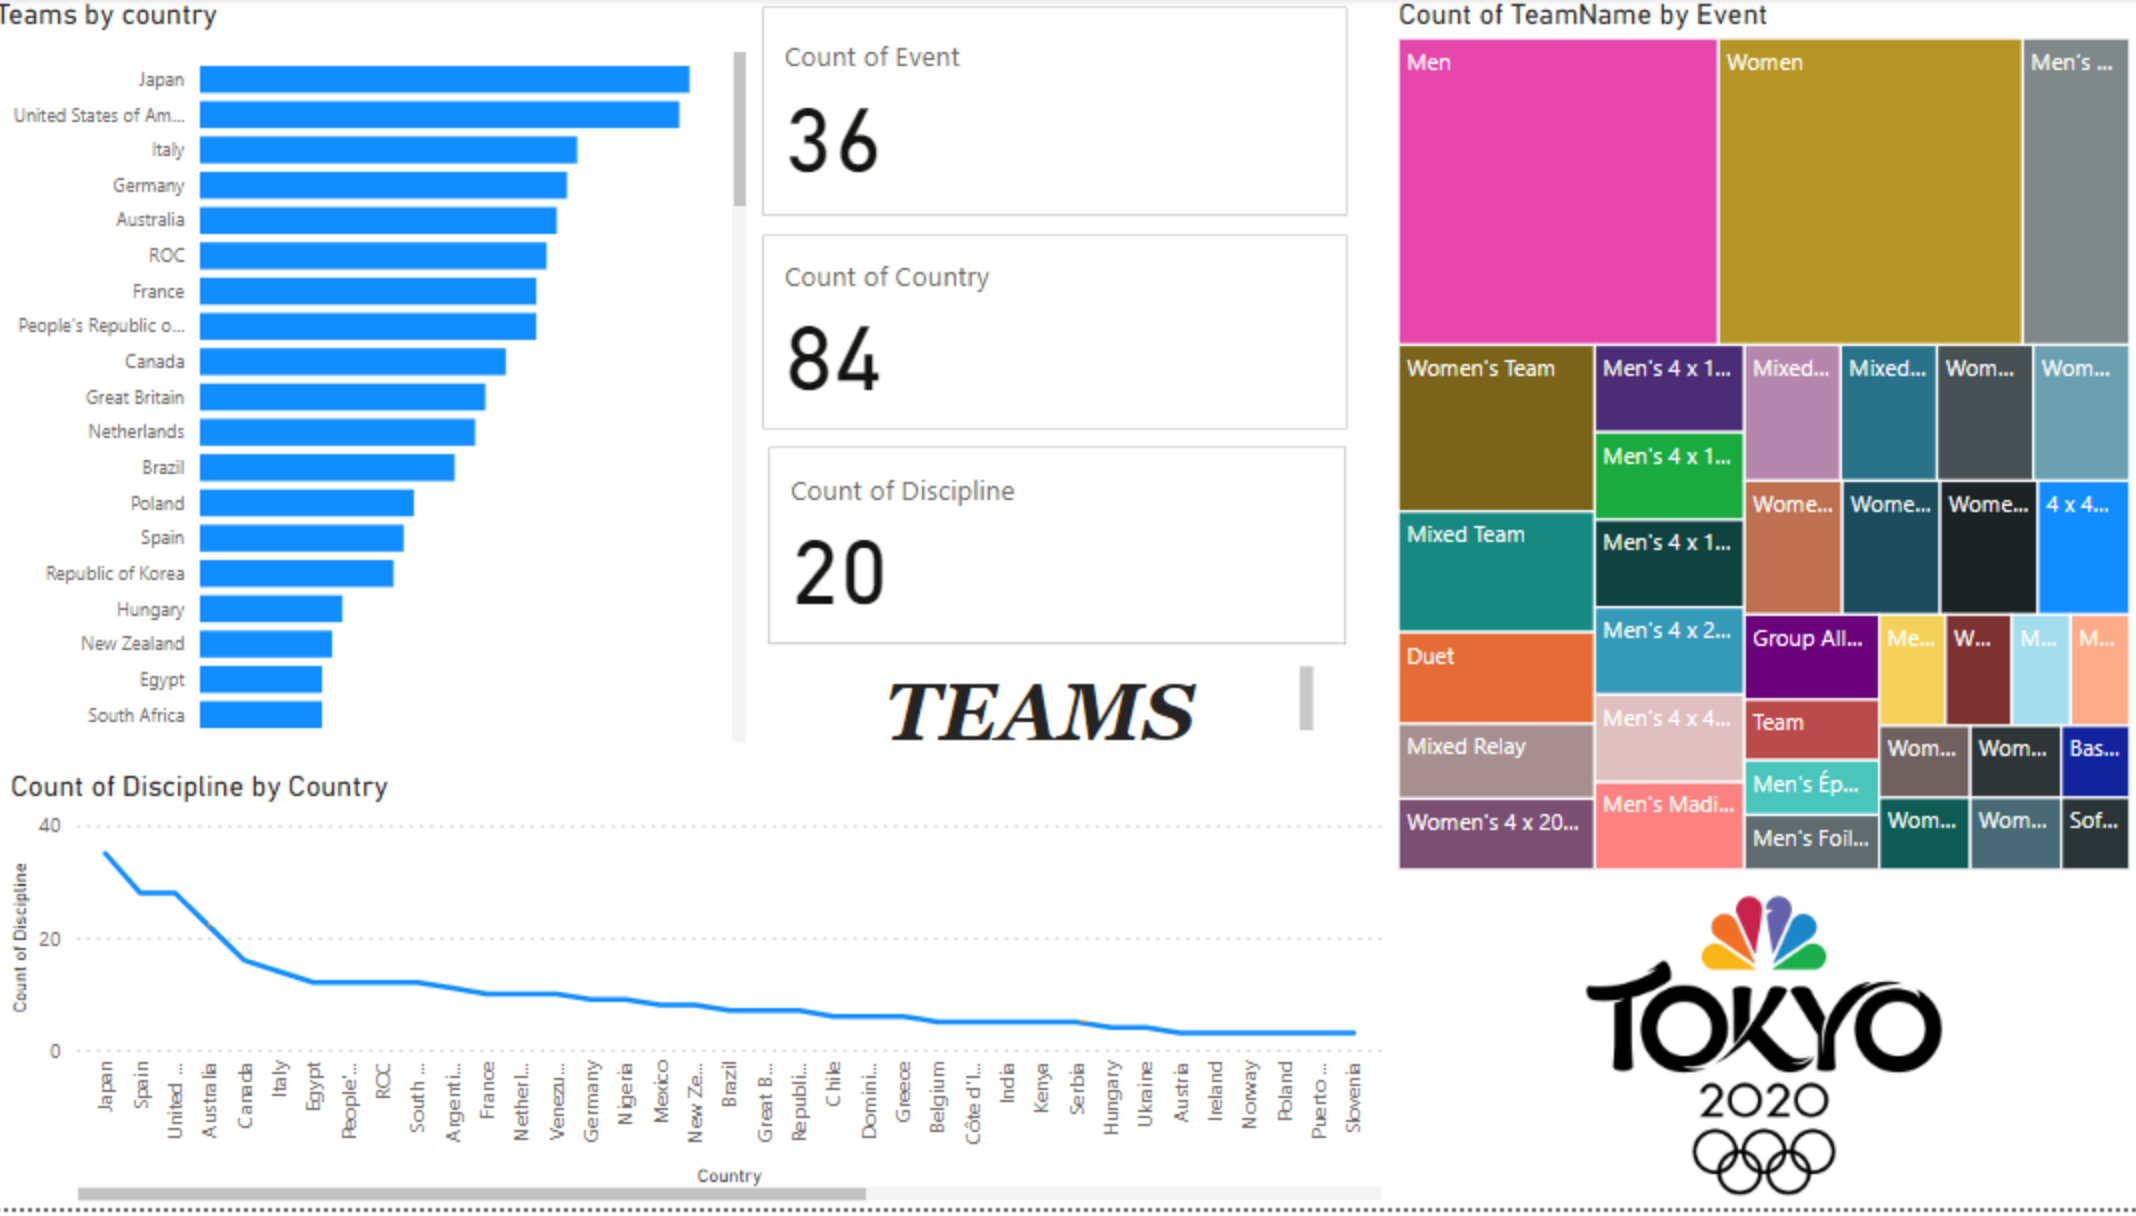

The dashboard page shown, as its layout file describes it:
{"tool":"powerbi","page":{"name":"Page 2","canvas":[1280,720],"ordinal":1},"visuals":[{"type":"clusteredBarChart","title":"Teams by country ","fields":{"Category":["Teams.Country"],"Y":["CountNonNull(Teams.Discipline)"]},"box":[0,0,456.8,448.5],"z":0},{"type":"lineChart","fields":{"Category":["Coaches.Country"],"Y":["CountNonNull(Coaches.Discipline)"]},"box":[9.5,459.2,825.6,260.5],"z":4},{"type":"treemap","fields":{"Group":["Teams.Event"],"Values":["CountNonNull(Teams.TeamName)"]},"box":[835.1,0,444.9,523.4],"z":5},{"type":"image","box":[835.1,523.4,444.9,196.3],"z":6},{"type":"cardVisual","fields":{"Data":["Count(Teams.Event)"]},"box":[456.8,0,358.1,135.6],"z":7},{"type":"cardVisual","fields":{"Data":["Count(Teams.Country)"]},"box":[456.8,135.6,358.1,126.1],"z":8},{"type":"cardVisual","fields":{"Data":["Count(Teams.Discipline)"]},"box":[460.4,261.7,354.5,128.5],"z":9},{"type":"textbox","box":[529.4,392.6,265.3,55.9],"z":10}]}

Visuals, with their boxes in screenshot pixels (x1, y1, x2, y2), scaled from the page's 1280x720 canvas onto the 2136x1216 screenshot:
"Teams by country " clusteredBarChart: (0, 0, 762, 757)
lineChart - Coaches.Country x CountNonNull(Coaches.Discipline): (16, 776, 1394, 1215)
treemap - Teams.Event x CountNonNull(Teams.TeamName): (1394, 0, 2135, 884)
image: (1394, 884, 2135, 1215)
cardVisual - Count(Teams.Event): (762, 0, 1360, 229)
cardVisual - Count(Teams.Country): (762, 229, 1360, 442)
cardVisual - Count(Teams.Discipline): (768, 442, 1360, 659)
textbox: (883, 663, 1326, 757)
